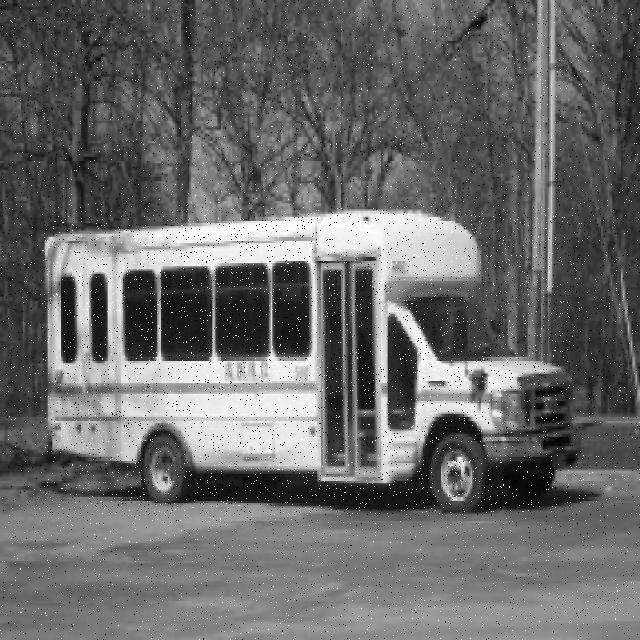Bus- Small: (42, 210, 580, 516)
